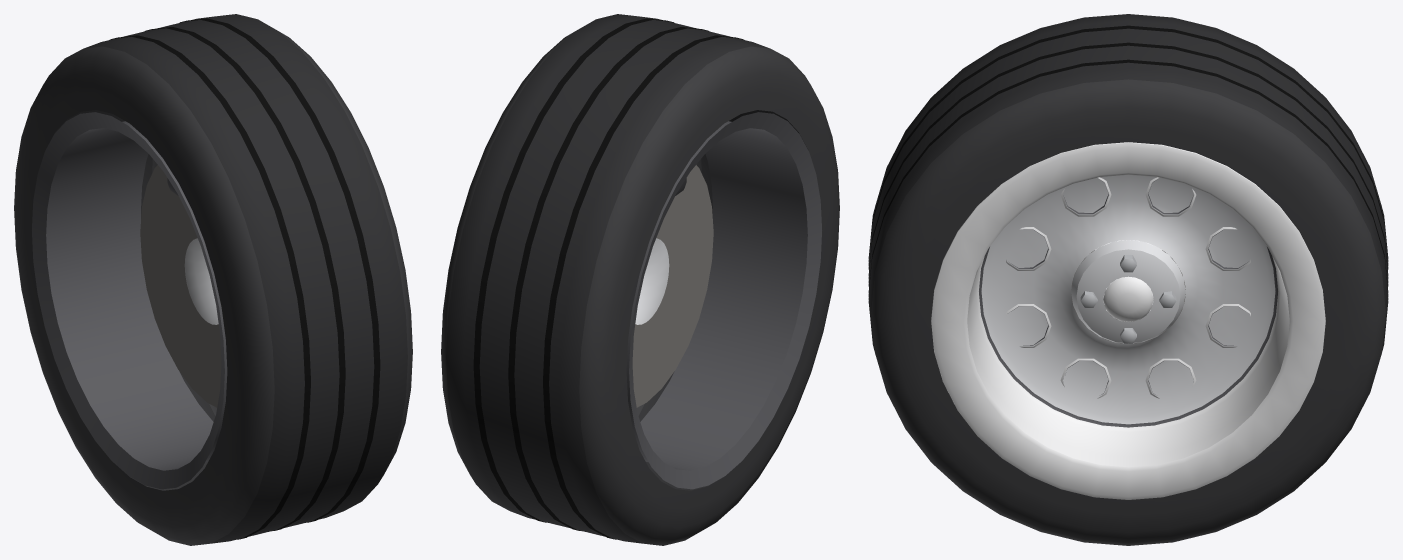
File: wheel_signature_e30.glb
3 views of the same model, side by side, from view 1: azimuth 30°, elevation 25°; view 2: azimuth 150°, elevation 25°; view 3: azimuth 270°, elevation 25° (orthographic).
Parts seen in each view (by area): view 1: wheel_signature_e30; view 2: wheel_signature_e30; view 3: wheel_signature_e30.
Boxes of the visible parts, left/top/right/bottom form: wheel_signature_e30: left=14, top=14, right=412, bottom=545; wheel_signature_e30: left=441, top=14, right=839, bottom=545; wheel_signature_e30: left=868, top=14, right=1388, bottom=545.
Size of the model in its own units: 0.222 by 0.5812 by 0.5812.
Materials: 1 (1 with a texture image).
